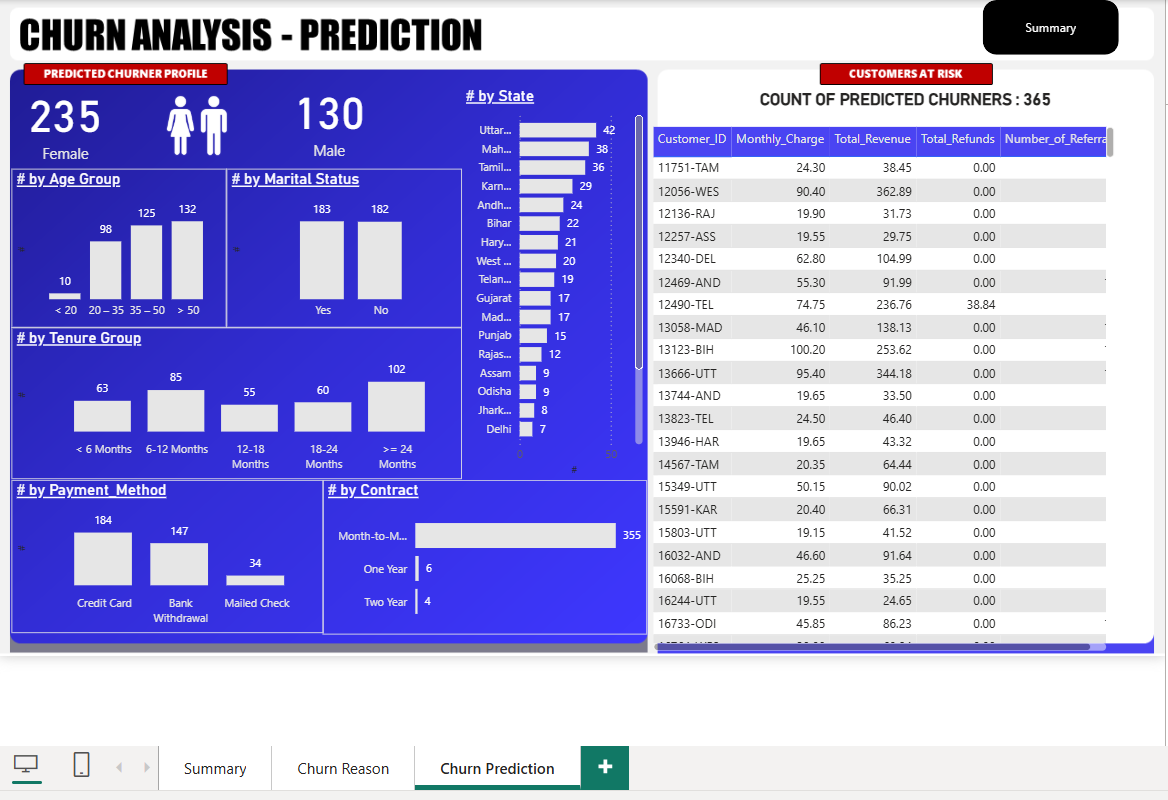

The dashboard page shown, as its layout file describes it:
{"tool":"powerbi","page":{"name":"Churn Prediction","canvas":[1280,720],"ordinal":2},"visuals":[{"type":"tableEx","fields":{"Values":["Predictions.Customer_ID","Predictions.Monthly_Charge","Predictions.Total_Revenue","Predictions.Total_Refunds","Predictions.Number_of_Referrals"]},"box":[712,134.7,517.3,585.3],"z":0},{"type":"card","fields":{"Values":["tbl_Measures.Title Predicted Churners"]},"box":[825.3,82.7,341.3,54.7],"z":1000},{"type":"card","fields":{"Values":["tbl_Measures.Count Predicted Churner"]},"box":[13.3,82.7,118.7,102.7],"z":2000},{"type":"card","fields":{"Values":["tbl_Measures.Count Predicted Churner"]},"box":[301.3,82.7,121.3,94.7],"z":3000},{"type":"clusteredColumnChart","fields":{"Category":["mapping_AgeGrp.Age Group"],"Y":["CountNonNull(Predictions.Customer_ID)"]},"box":[13.3,185.3,236,174.7],"z":4000},{"type":"clusteredColumnChart","fields":{"Category":["Predictions.Married"],"Y":["CountNonNull(Predictions.Customer_ID)"]},"box":[249.3,185.3,258.7,174.7],"z":5000},{"type":"clusteredColumnChart","fields":{"Y":["CountNonNull(Predictions.Customer_ID)"],"Category":["mapping_TenureGrp.Tenure Group"]},"box":[13.3,360,494.7,166.7],"z":6000},{"type":"clusteredColumnChart","fields":{"Y":["CountNonNull(Predictions.Customer_ID)"],"Category":["Predictions.Payment_Method"]},"box":[13.3,526.7,342.7,168],"z":7000},{"type":"clusteredBarChart","fields":{"Category":["Predictions.Contract"],"Y":["CountNonNull(Predictions.Customer_ID)"]},"box":[356,526.7,356,169.3],"z":8000},{"type":"clusteredBarChart","fields":{"Y":["CountNonNull(Predictions.Customer_ID)"],"Category":["Predictions.State"]},"box":[508,94.7,204,432],"z":9000},{"type":"image","box":[139.3,96,154.7,82.7],"z":9001},{"type":"shape","box":[1080,0,149.3,60],"z":9002}]}

Visuals, with their boxes on the page's 1280x720 design canvas (x1, y1, x2, y2). These are canvas units, not pixel positions in the 1168x800 screenshot, which may show the page scaled, cropped or inside an application window:
tableEx - Predictions.Customer_ID x Predictions.Monthly_Charge: bbox=[712, 135, 1229, 720]
card - tbl_Measures.Title Predicted Churners: bbox=[825, 83, 1167, 137]
card - tbl_Measures.Count Predicted Churner: bbox=[13, 83, 132, 185]
card - tbl_Measures.Count Predicted Churner: bbox=[301, 83, 423, 177]
clusteredColumnChart - mapping_AgeGrp.Age Group x CountNonNull(Predictions.Customer_ID): bbox=[13, 185, 249, 360]
clusteredColumnChart - Predictions.Married x CountNonNull(Predictions.Customer_ID): bbox=[249, 185, 508, 360]
clusteredColumnChart - CountNonNull(Predictions.Customer_ID) x mapping_TenureGrp.Tenure Group: bbox=[13, 360, 508, 527]
clusteredColumnChart - CountNonNull(Predictions.Customer_ID) x Predictions.Payment_Method: bbox=[13, 527, 356, 695]
clusteredBarChart - Predictions.Contract x CountNonNull(Predictions.Customer_ID): bbox=[356, 527, 712, 696]
clusteredBarChart - CountNonNull(Predictions.Customer_ID) x Predictions.State: bbox=[508, 95, 712, 527]
image: bbox=[139, 96, 294, 179]
shape: bbox=[1080, 0, 1229, 60]
